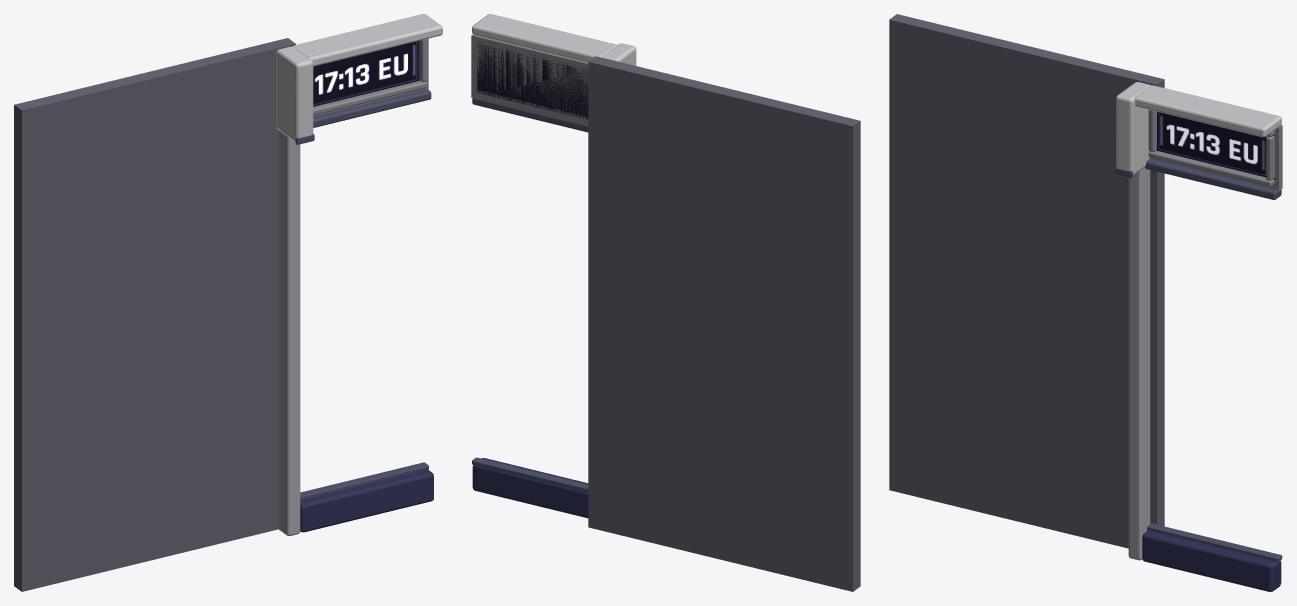
File: int.wallbay.far.04.w1.glb
3 renders of one model, left to right at view 1: azimuth 30°, elevation 25°; view 2: azimuth 150°, elevation 25°; view 3: azimuth 330°, elevation 25°, orthographic. The views are drawn at different scales.
Visible parts, largest first — view 1: int.wallbay.far.04.w1; view 2: int.wallbay.far.04.w1; view 3: int.wallbay.far.04.w1.
Part boxes in pixels (x1,y1,x2,y2): int.wallbay.far.04.w1: (14,14,442,591); int.wallbay.far.04.w1: (471,14,860,591); int.wallbay.far.04.w1: (889,14,1282,591).
Size of the model in its own units: 1.47 by 1.68 by 0.192.
8 materials, 1 textured.
